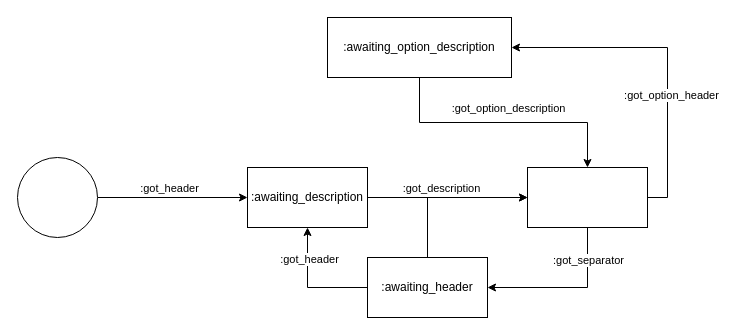
This 736x335 diagram has some shape labels left out. The shapes that lost their labels are listed below. From the top down, each one's centre as x and y in pixels, then its label:
At pixel 57 197: ":start".
At pixel 587 197: ":awaiting_separator".
